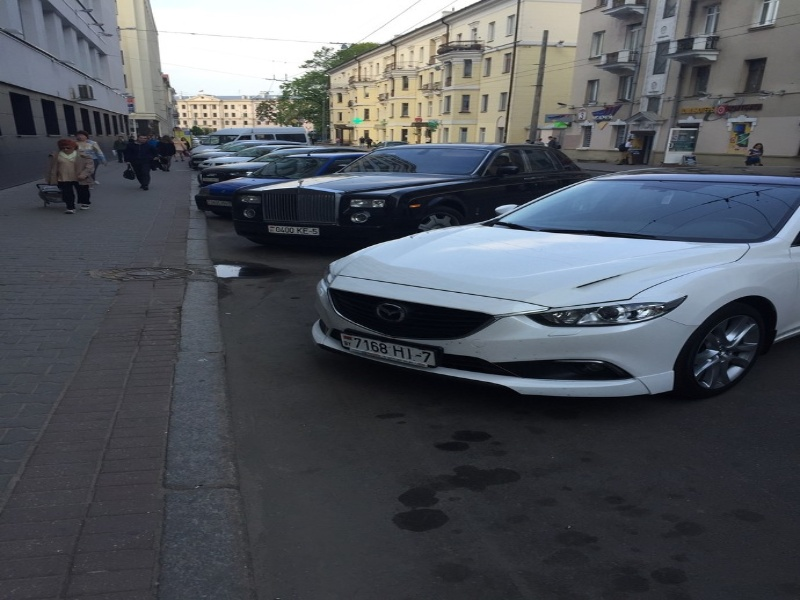car: (311, 171, 800, 399), (236, 144, 602, 247), (197, 153, 365, 218), (198, 151, 288, 189), (189, 129, 309, 156), (197, 144, 294, 173)
person: (46, 138, 91, 213), (124, 135, 157, 189), (74, 132, 105, 189), (157, 134, 176, 172), (746, 142, 764, 170), (619, 139, 633, 163)
plate: (340, 334, 434, 369), (270, 224, 319, 235), (207, 198, 232, 208)
